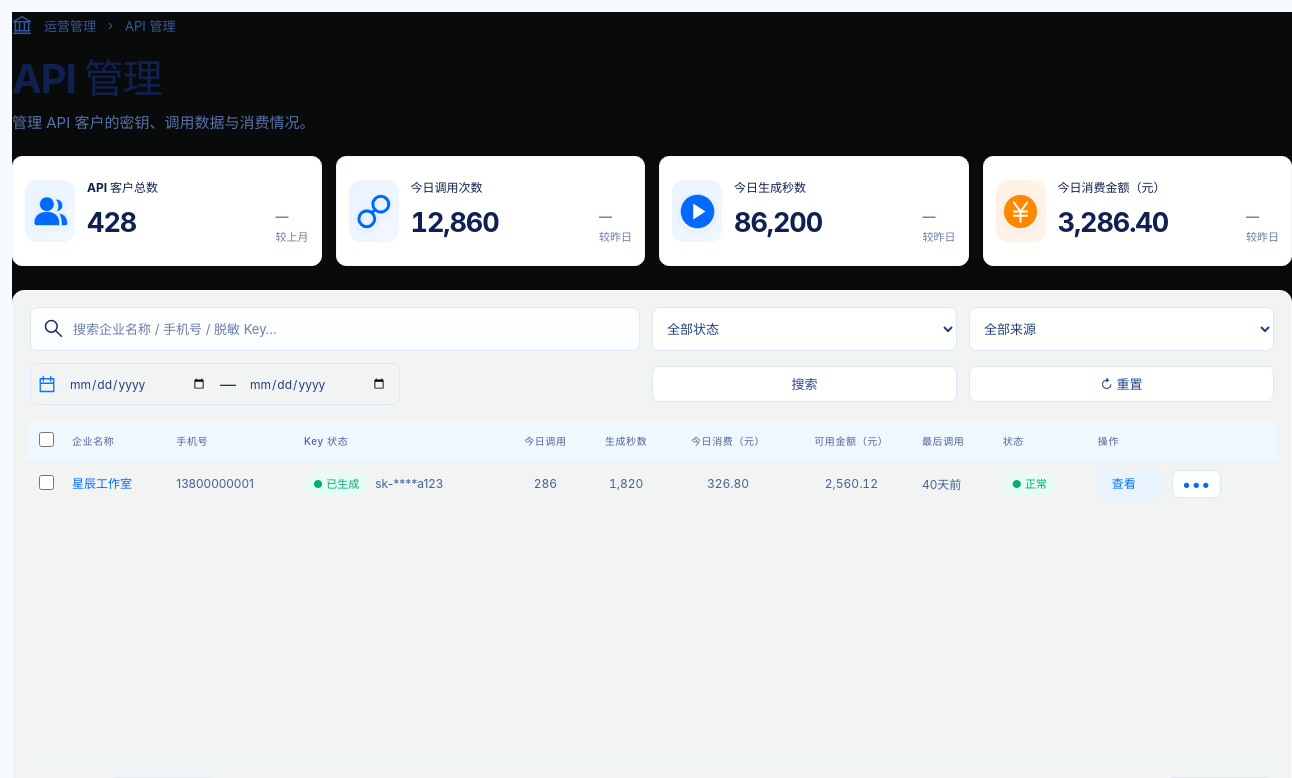
Test: blocks full-secret GET search and stale results; normal admin has no create/key-copy control
Type "sk-secret-full" into the field named "搜索 API 客户".
click(335, 329); type("sk-secret-full")  # box [30,307,640,351]
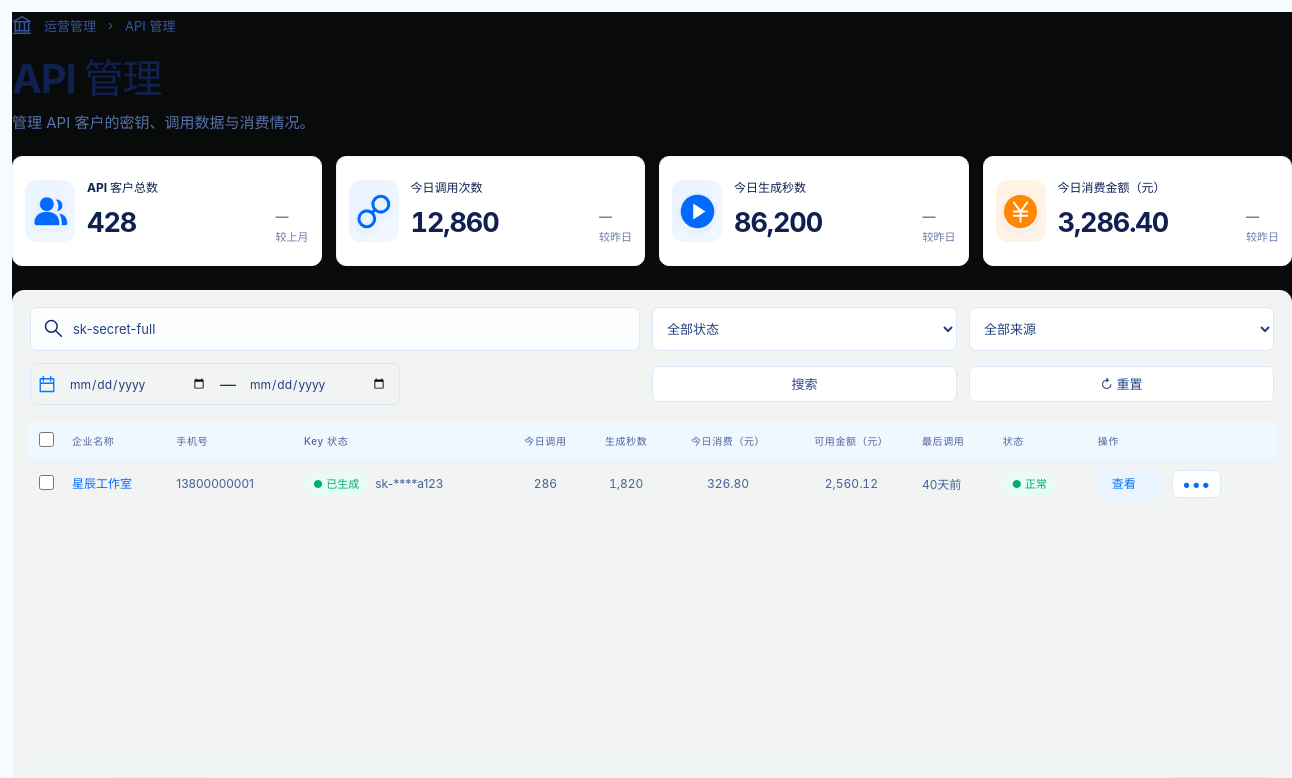
Submit the form with class "api-filters", box [30,307,1274,405]
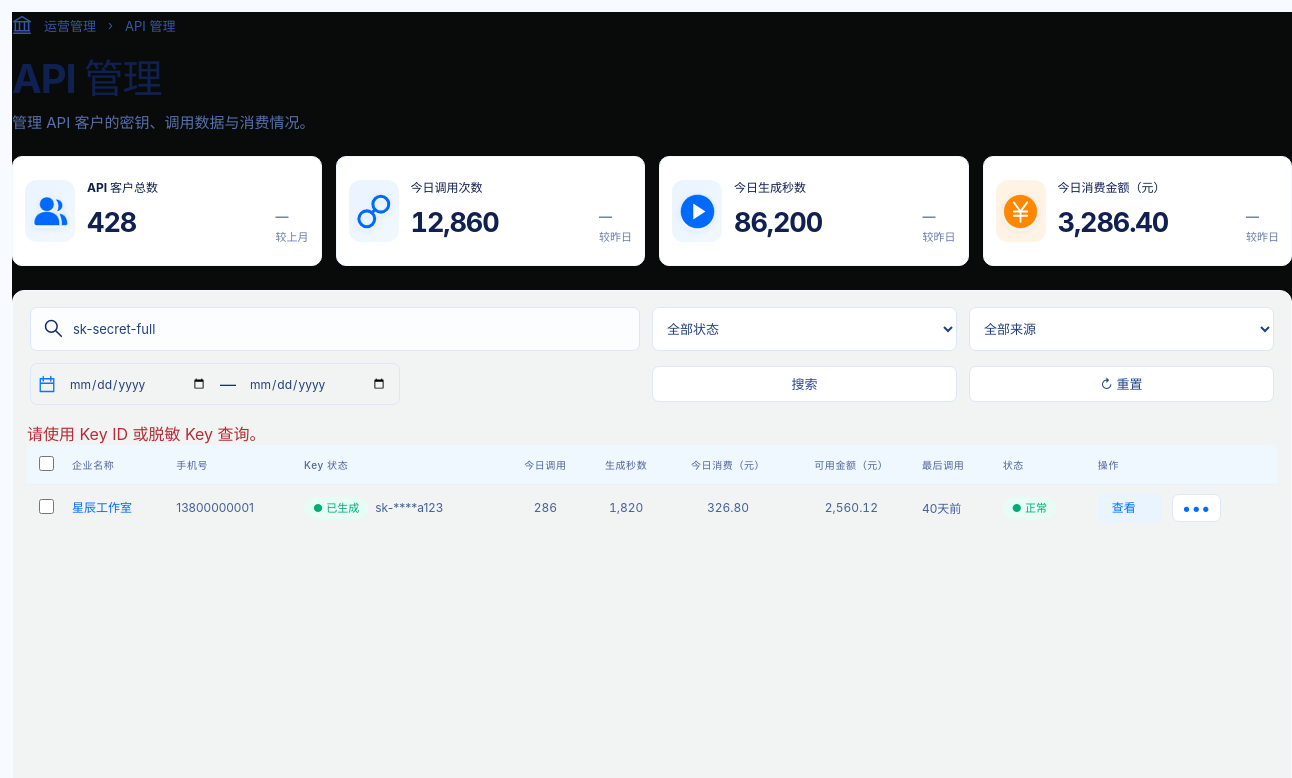
Expected: the message "请使用 Key ID 或脱敏 Key 查询。" is shown, [27,424,266,444]
